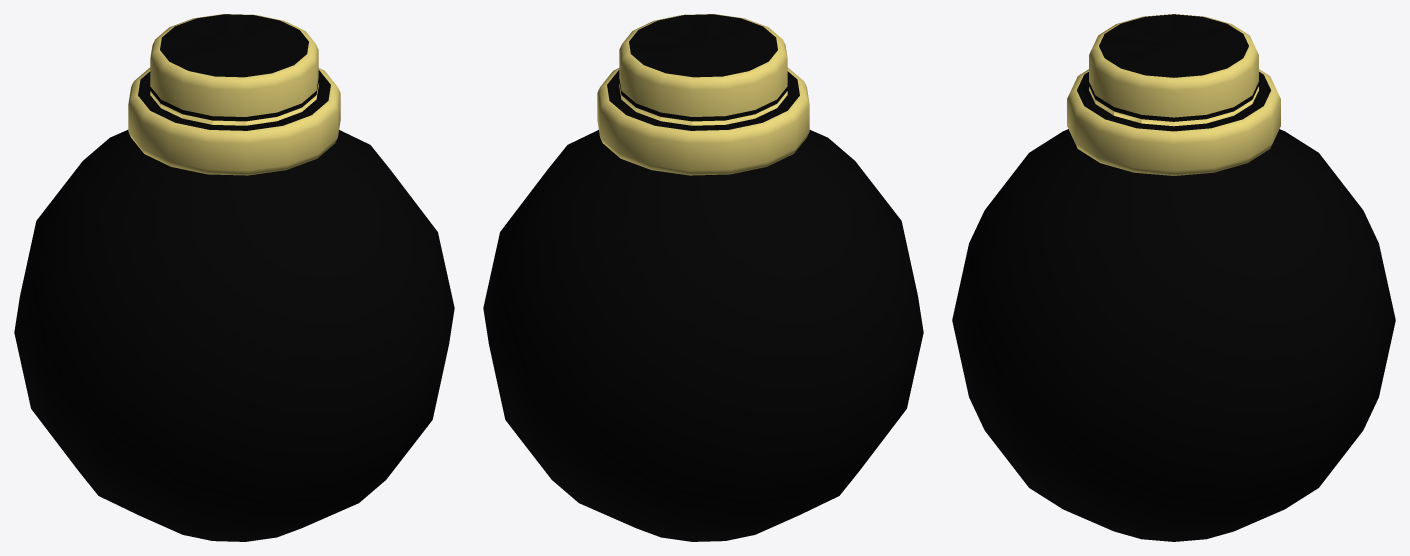
File: Bomb.fbx
3 views of the same model, side by side, from view 1: azimuth 30°, elevation 25°; view 2: azimuth 150°, elevation 25°; view 3: azimuth 270°, elevation 25° (orthographic).
Visible parts, largest first — view 1: Sphere; view 2: Sphere; view 3: Sphere.
Part boxes in pixels (x1,y1,x2,y2): Sphere: [14, 14, 454, 541]; Sphere: [483, 14, 923, 541]; Sphere: [952, 14, 1395, 541].
Bounding box in the file's own units: 200 × 237 × 200.
